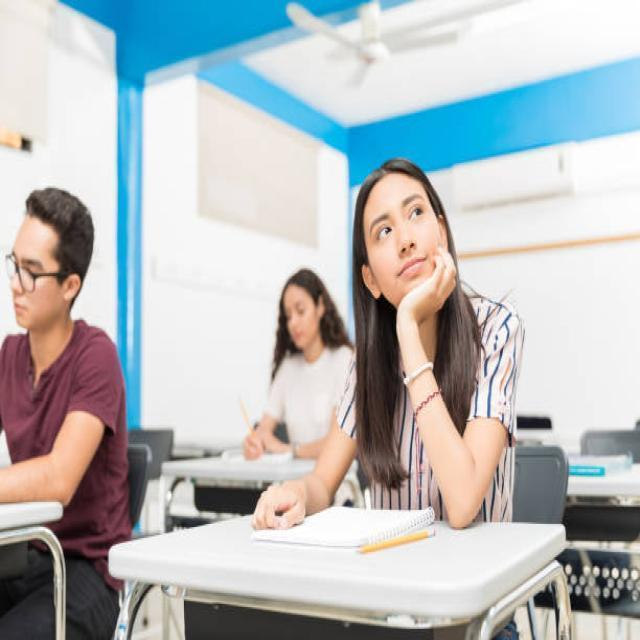Looking away: (364, 175, 442, 308), (7, 212, 69, 332), (280, 284, 324, 348)
